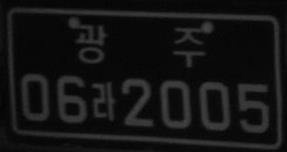0: (198, 81, 231, 132), (159, 80, 193, 129), (20, 72, 50, 121)
2: (121, 77, 155, 128)
5: (237, 82, 270, 135)
6: (56, 74, 88, 123)
광주_D: (74, 20, 206, 67)
라: (91, 81, 116, 122)
